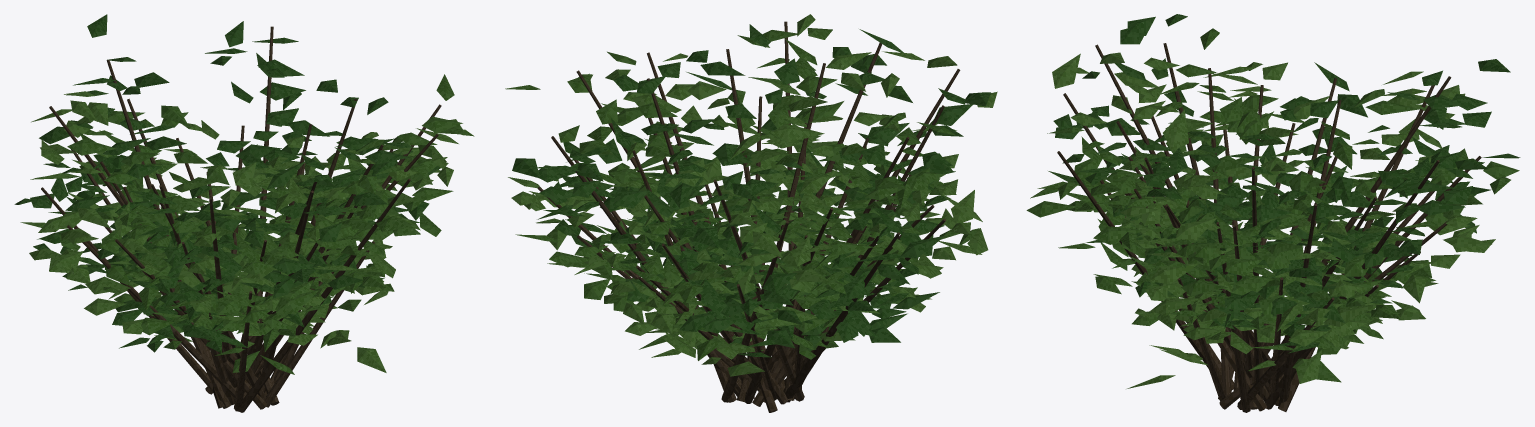
File: level_camp_shrub_decorative_a.glb
3 renders of one model, left to right at view 1: azimuth 30°, elevation 25°; view 2: azimuth 150°, elevation 25°; view 3: azimuth 270°, elevation 25°, orthographic. The views are drawn at different scales.
Visible parts, largest first — view 1: level_camp_shrub_decorative_a; view 2: level_camp_shrub_decorative_a; view 3: level_camp_shrub_decorative_a.
Boxes of the visible parts, box(x1,y1,x2,y2) form: level_camp_shrub_decorative_a: box(14, 14, 474, 412); level_camp_shrub_decorative_a: box(505, 14, 997, 412); level_camp_shrub_decorative_a: box(1026, 14, 1520, 412).
Size of the model in its own units: 2.78 by 1.85 by 2.58.
Materials: 4 (4 with a texture image).
